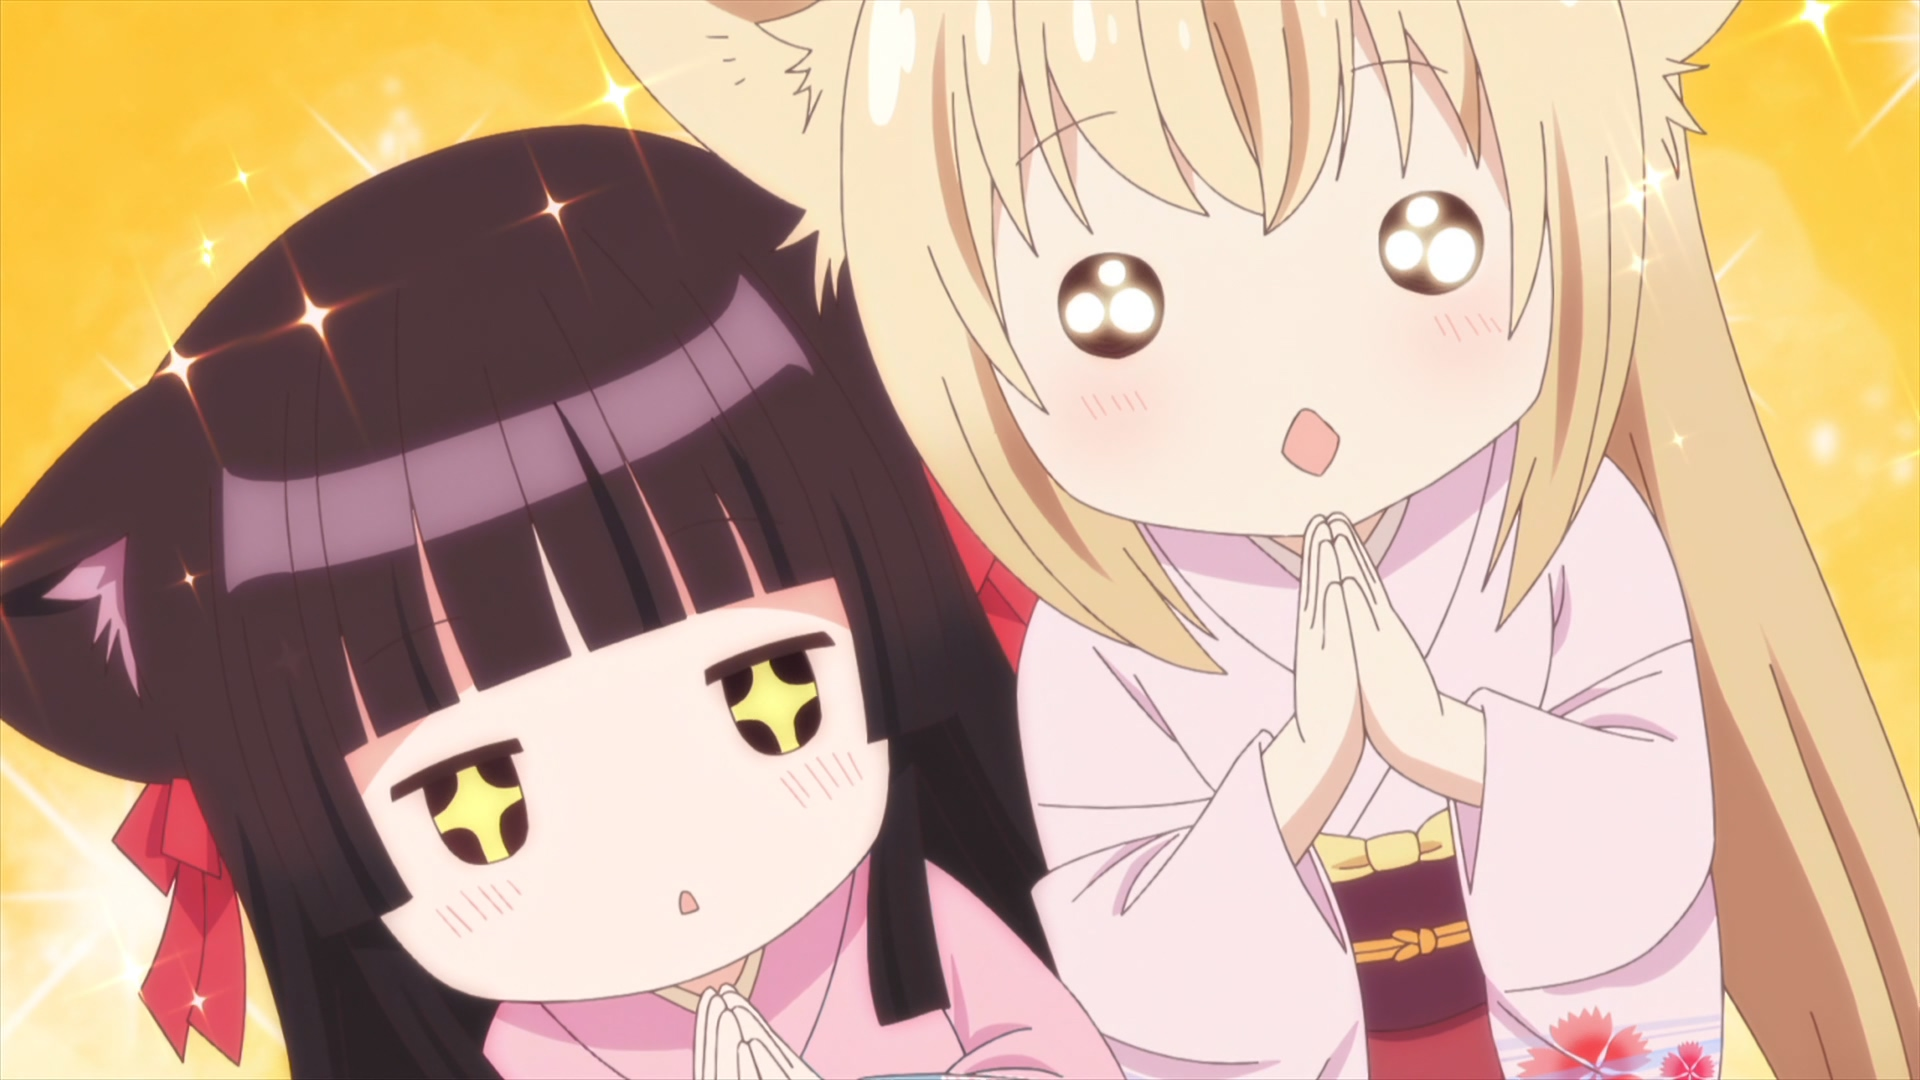柚: (588, 1, 1920, 1080)
樱: (1, 124, 1126, 1080)
